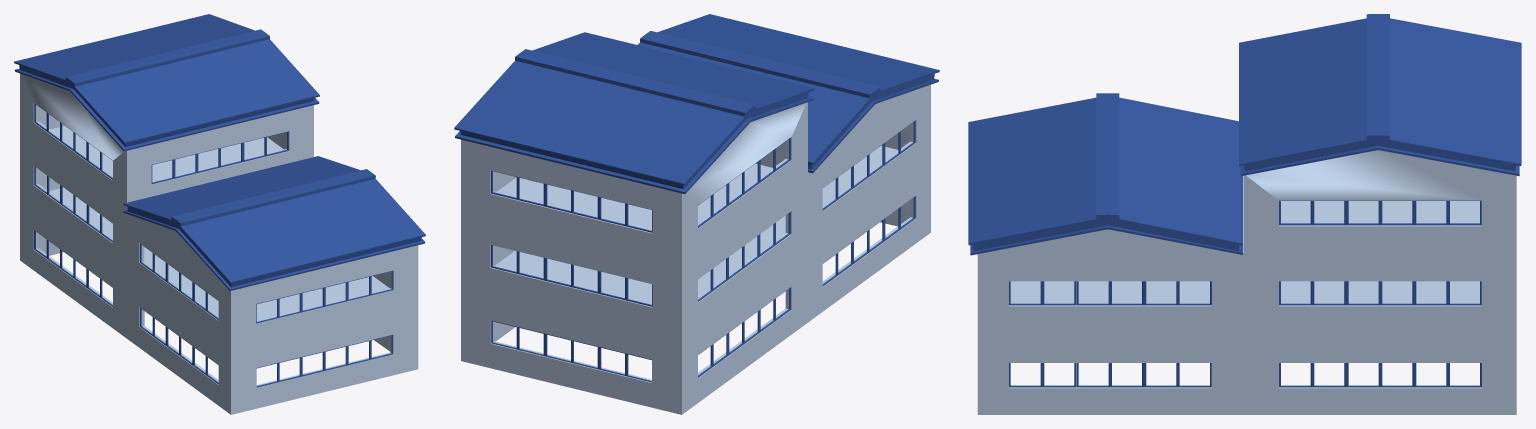
The model's file is 总控室.glb.
3 views of the same model, side by side, from view 1: azimuth 30°, elevation 25°; view 2: azimuth 150°, elevation 25°; view 3: azimuth 270°, elevation 25° (orthographic). The views are drawn at different scales.
Parts seen in each view (by area): view 1: 立方体.035; view 2: 立方体.035; view 3: 立方体.035.
Boxes of the visible parts, x1,y1,x2,y2 form: 立方体.035: [14, 14, 425, 414]; 立方体.035: [454, 14, 939, 414]; 立方体.035: [968, 14, 1521, 414].
Bounding box in the file's own units: 173 × 187 × 333.
